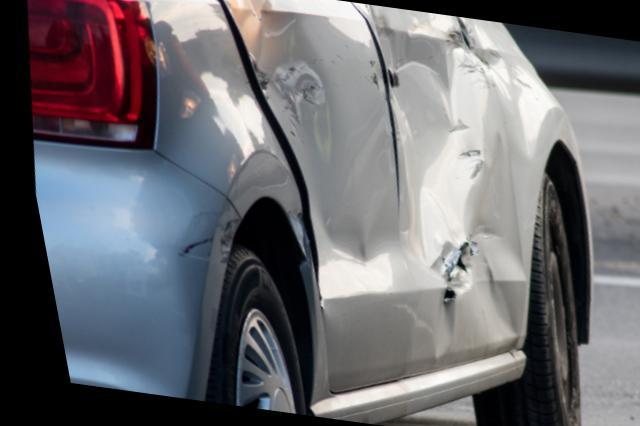crack: (426, 245, 457, 309)
dent: (227, 0, 401, 289), (370, 5, 513, 351)
scratch: (166, 210, 230, 267)
